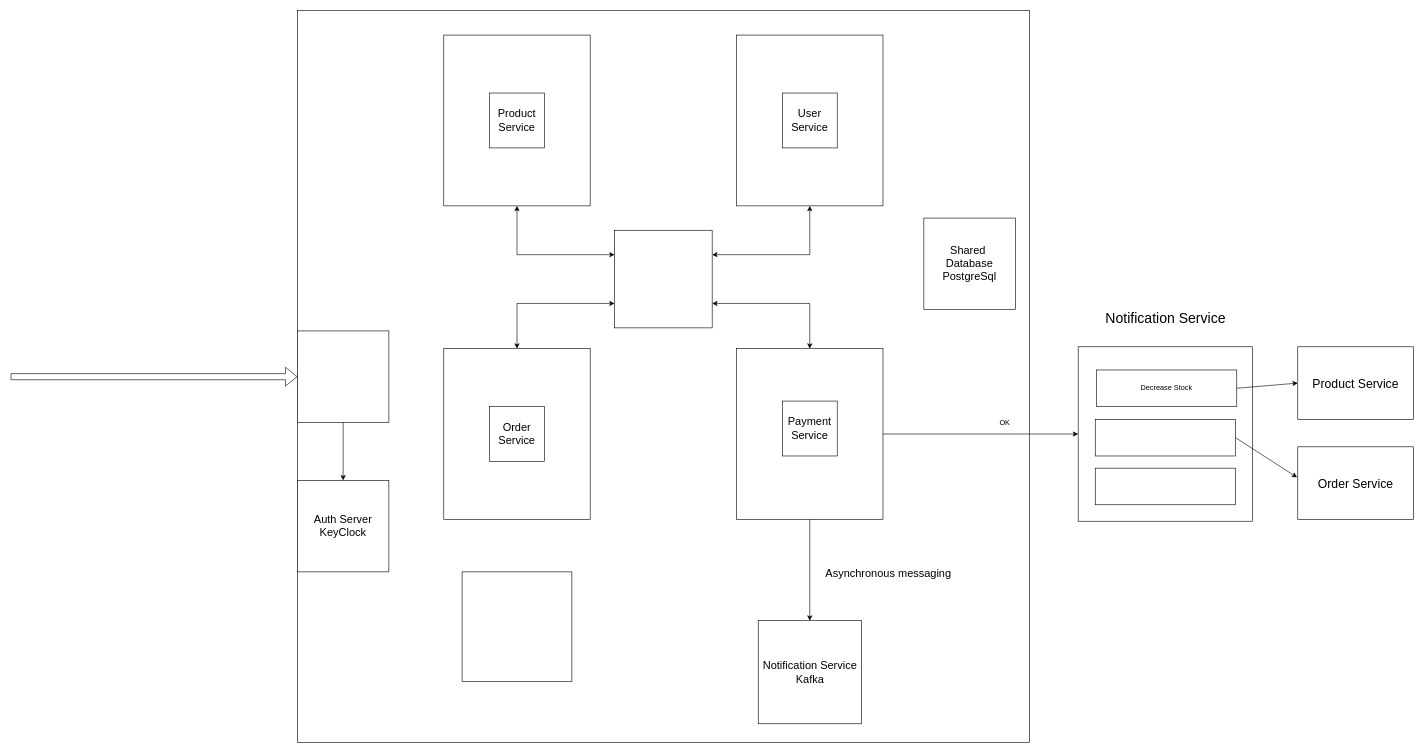
This 1424x753 diagram has some shape labels left out. Here are the shapes that lost their labels. From the top down, the centre of each, then its label:
the point at 663,279: Discovery Service Eurake
the point at 343,376: Api Gateway
the point at 1165,437: Change Payment Status
the point at 1165,486: Send Email User that have orderId
the point at 516,626: Redis
